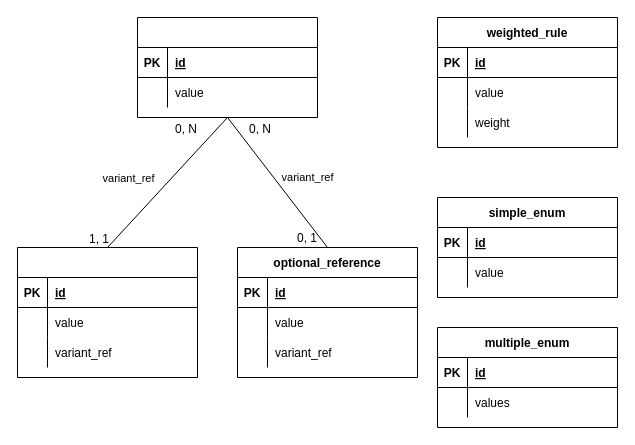
This 635x445 diagram has some shape labels left out. Each missing label, with the box of its shape:
required_reference: (16, 246, 198, 378)
simple_rule: (136, 16, 318, 118)
